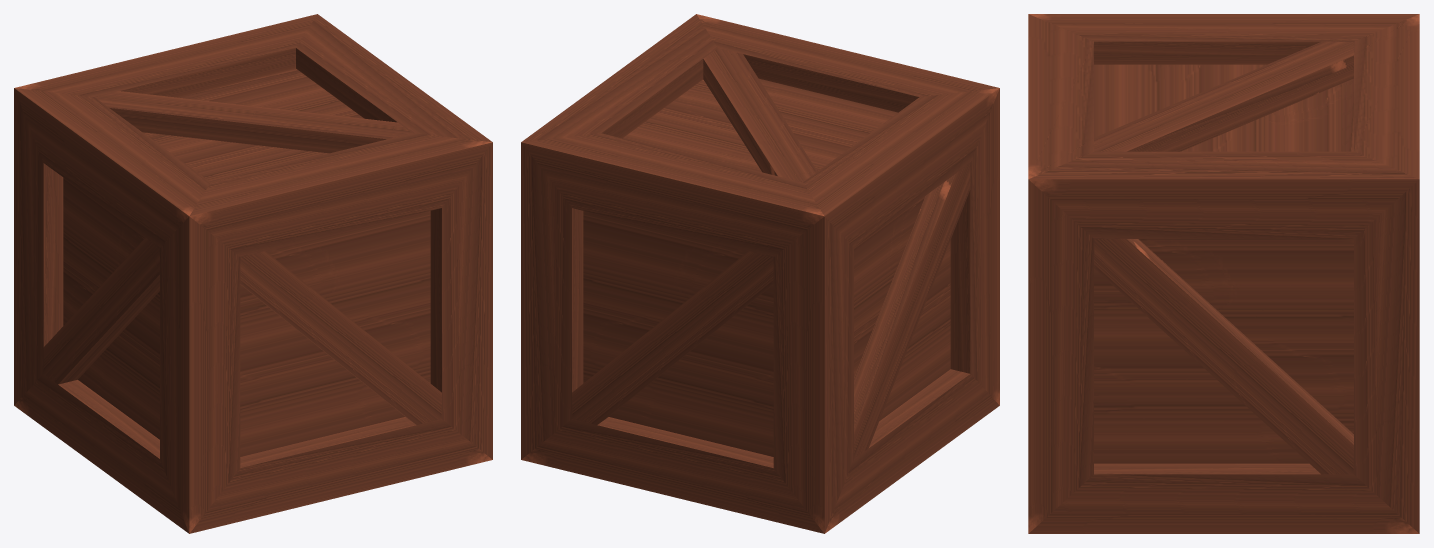
The model's file is CircusCrate.glb.
The picture shows the model from 3 angles, left to right: view 1: azimuth 30°, elevation 25°; view 2: azimuth 150°, elevation 25°; view 3: azimuth 270°, elevation 25°; orthographic projection. The views are drawn at different scales.
Parts seen in each view (by area): view 1: Crate_Baked; view 2: Crate_Baked; view 3: Crate_Baked.
Part boxes in pixels (left/top/right/bottom): Crate_Baked: left=14, top=14, right=492, bottom=533; Crate_Baked: left=521, top=14, right=999, bottom=533; Crate_Baked: left=1028, top=14, right=1419, bottom=533.
Bounding box in the file's own units: 2 × 2 × 2.
Materials: 1 (1 with a texture image).
